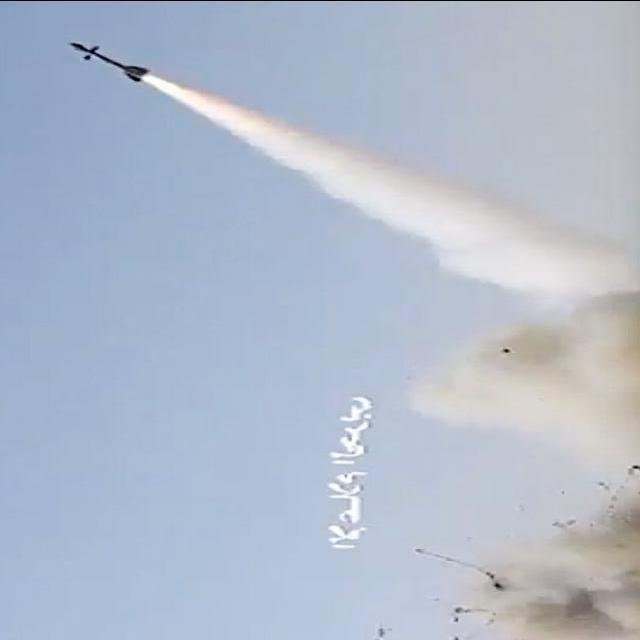missile: (73, 39, 146, 84)
